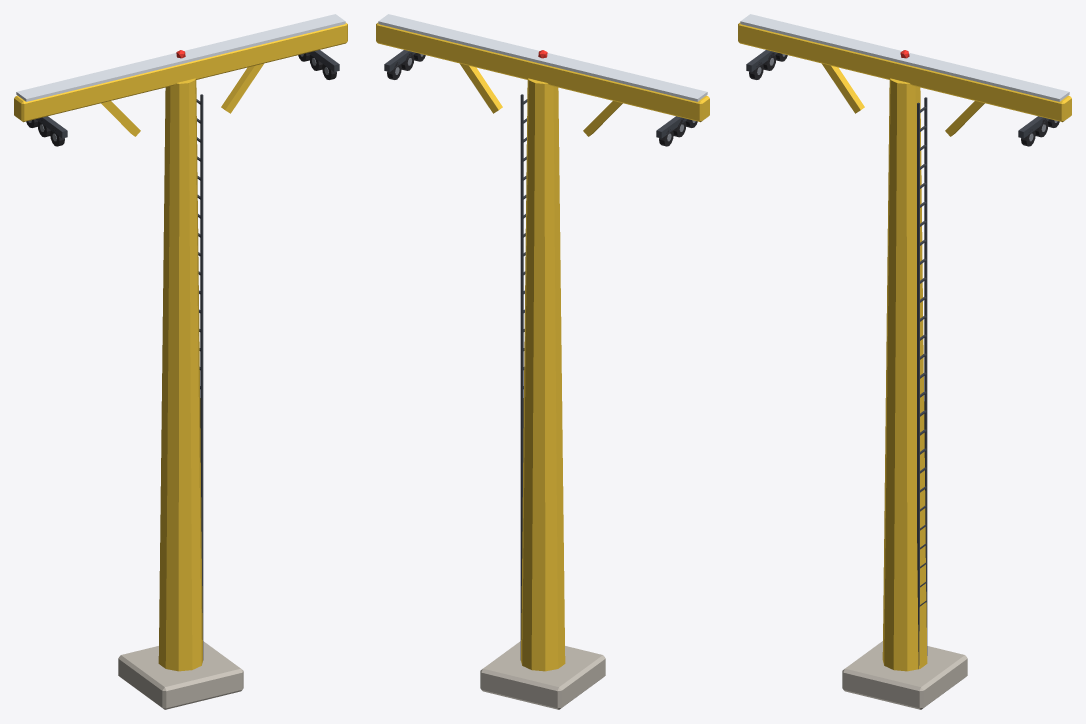
File: lift_tower.glb
3 views of the same model, side by side, from view 1: azimuth 30°, elevation 25°; view 2: azimuth 150°, elevation 25°; view 3: azimuth 330°, elevation 25° (orthographic).
Parts seen in each view (by area): view 1: lift_tower_Main; view 2: lift_tower_Main; view 3: lift_tower_Main.
Boxes of the visible parts, x1=… form: lift_tower_Main: x1=14, y1=14, x2=347, y2=709; lift_tower_Main: x1=376, y1=14, x2=709, y2=709; lift_tower_Main: x1=738, y1=14, x2=1071, y2=709.
Size of the model in its own units: 18 by 33.45 by 4.5.
1 material, 1 textured.
